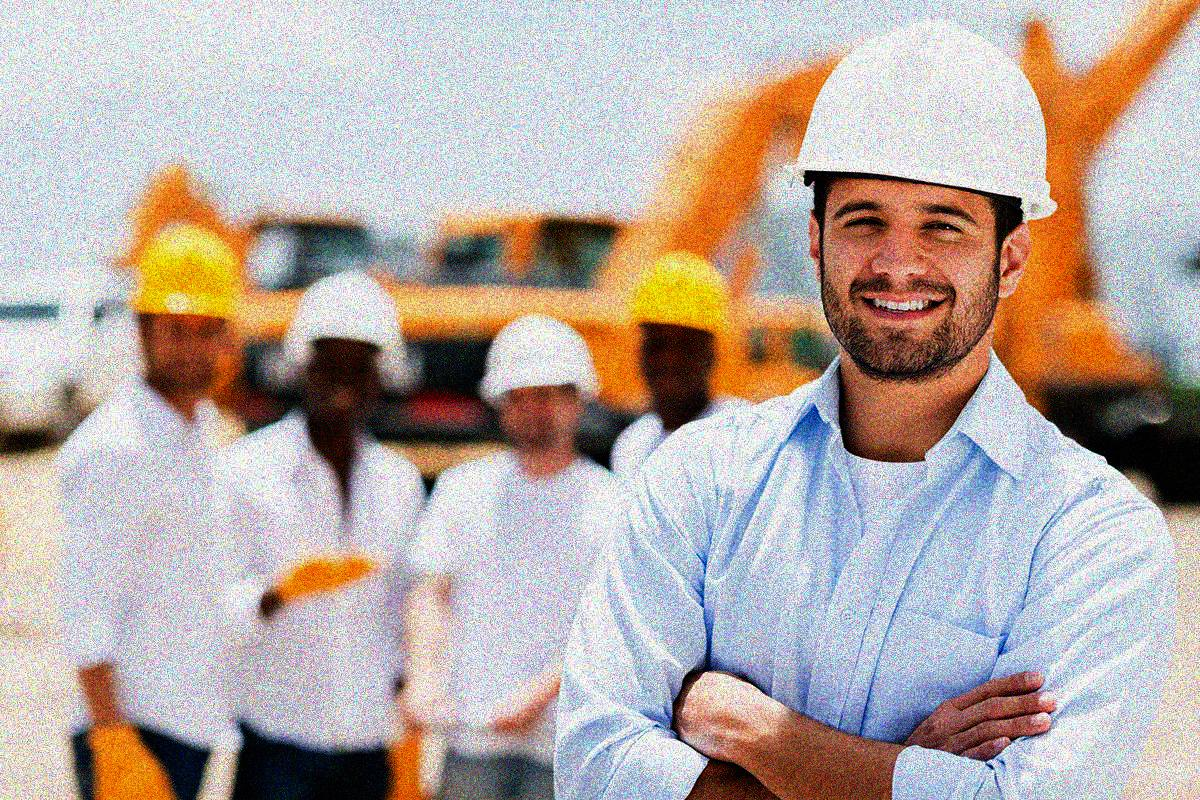helmet: (777, 17, 1063, 375), (130, 222, 255, 394), (473, 311, 605, 457), (278, 273, 406, 420), (623, 249, 740, 404)
